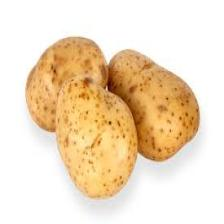Diseased-fungal potato: (106, 47, 202, 163), (55, 76, 140, 204), (23, 34, 109, 137)
